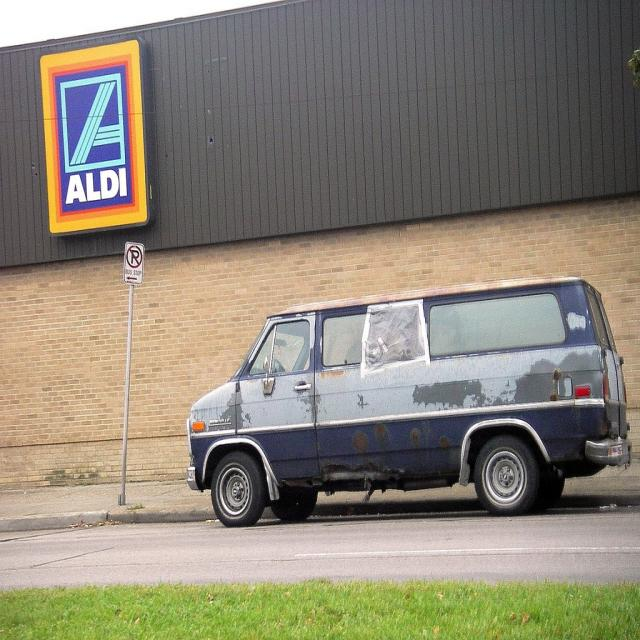aldi: (41, 40, 149, 234)
